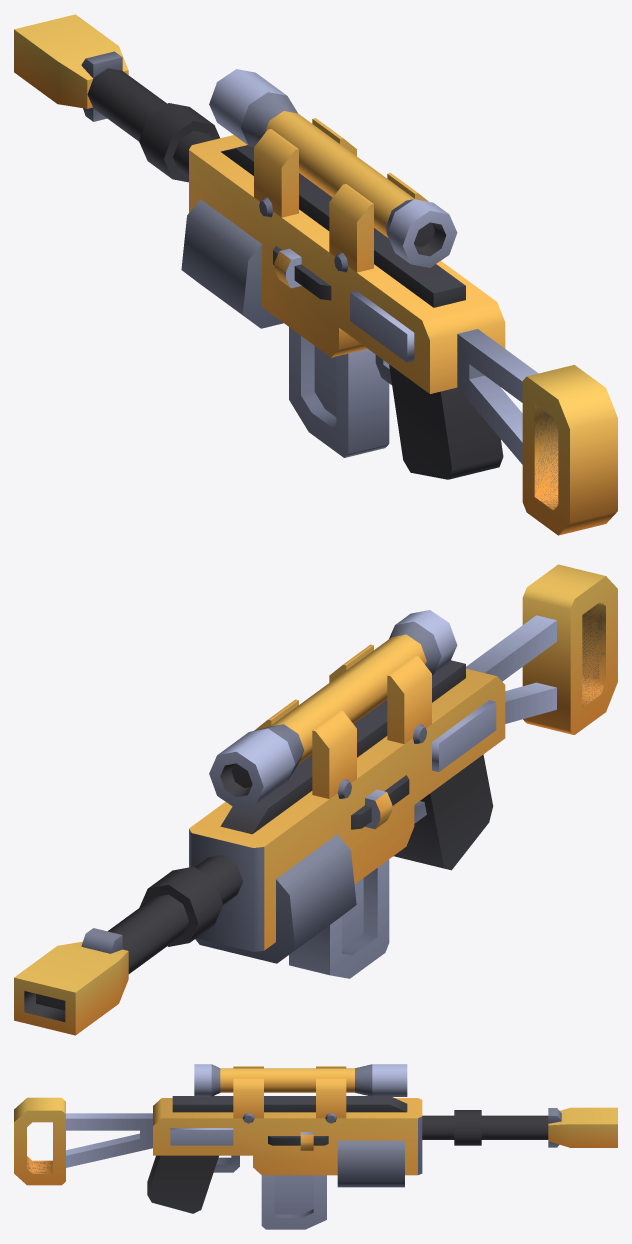
Rendered from toy_blaster_heavy.glb.
3 renders of one model, top to bottom at view 1: azimuth 30°, elevation 25°; view 2: azimuth 150°, elevation 25°; view 3: azimuth 270°, elevation 25°, orthographic. The views are drawn at different scales.
Parts seen in each view (by area): view 1: blaster-e; view 2: blaster-e; view 3: blaster-e.
Part boxes in pixels (x1,y1,x2,y2): blaster-e: (14, 14, 617, 535); blaster-e: (14, 564, 617, 1035); blaster-e: (14, 1064, 617, 1229).
Bounding box in the file's own units: 0.1665 × 0.4051 × 1.39.
Materials: 1 (1 with a texture image).
